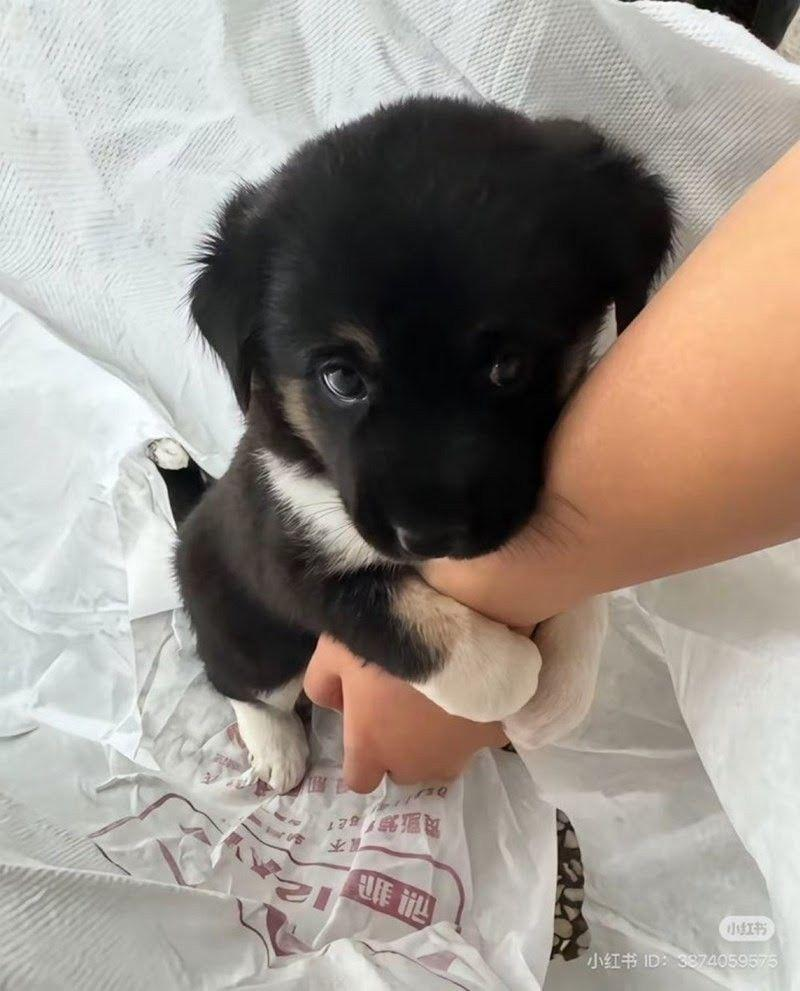puppy-dog: (157, 96, 682, 799)
